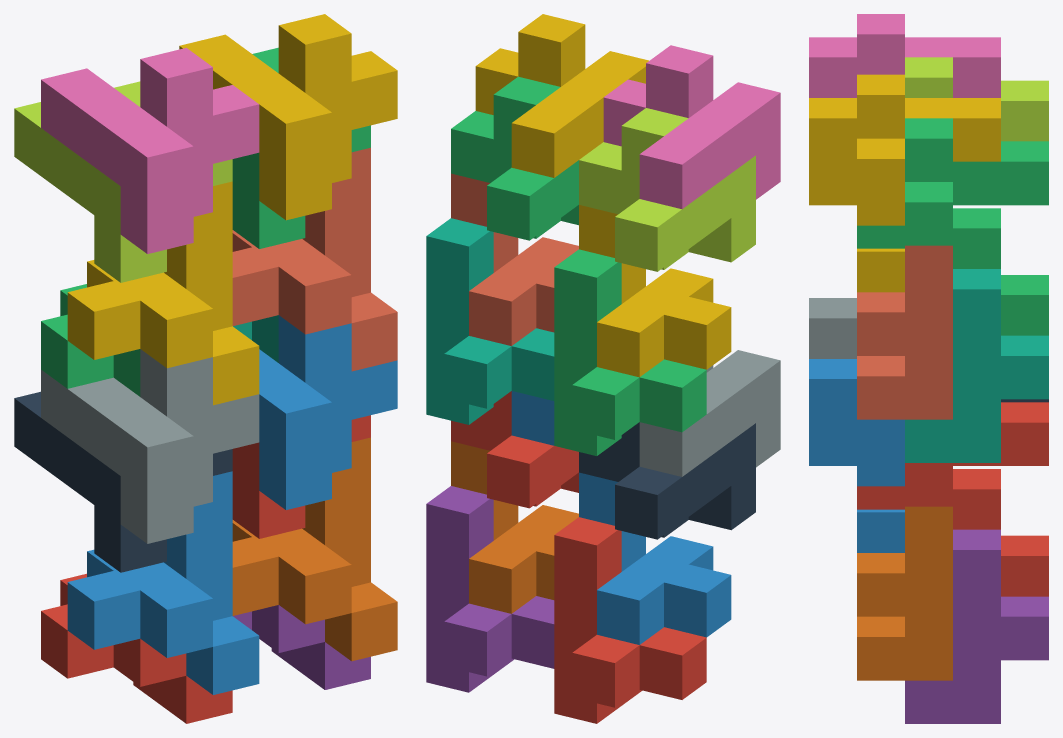
The model's file is tiling.obj.
3 views of the same model, side by side, from view 1: azimuth 30°, elevation 25°; view 2: azimuth 150°, elevation 25°; view 3: azimuth 270°, elevation 25° (orthographic). The views are drawn at different scales.
Parts seen in each view (by area): view 1: copy_2_domain_4, copy_2_domain_2, copy_2_domain_8, copy_1_domain_2, copy_1_domain_4, copy_1_domain_6, copy_1_domain_8, copy_2_domain_6, copy_2_domain_3, copy_2_domain_1, copy_1_domain_1, copy_1_domain_5 (+4 smaller); view 2: copy_2_domain_4, copy_1_domain_1, copy_1_domain_3, copy_1_domain_5, copy_1_domain_7, copy_2_domain_3, copy_2_domain_8, copy_1_domain_2, copy_1_domain_4, copy_2_domain_1, copy_2_domain_7, copy_2_domain_2 (+4 smaller); view 3: copy_2_domain_8, copy_1_domain_5, copy_1_domain_6, copy_1_domain_7, copy_1_domain_8, copy_2_domain_7, copy_2_domain_4, copy_2_domain_6, copy_2_domain_5, copy_1_domain_1, copy_1_domain_3, copy_2_domain_3 (+3 smaller).
Part boxes in pixels (x1,y1,x2,y2): copy_2_domain_4: (41, 48, 259, 253); copy_2_domain_2: (41, 349, 259, 543); copy_2_domain_8: (179, 14, 397, 220); copy_1_domain_2: (67, 471, 259, 694); copy_1_domain_4: (67, 181, 259, 405); copy_1_domain_6: (232, 437, 397, 661); copy_1_domain_8: (232, 147, 397, 371); copy_2_domain_6: (259, 315, 397, 509); copy_2_domain_3: (14, 81, 232, 282); copy_2_domain_1: (14, 391, 232, 572); copy_1_domain_1: (41, 573, 232, 723); copy_1_domain_5: (233, 605, 370, 689); copy_2_domain_4: (603, 45, 780, 208); copy_1_domain_1: (554, 517, 706, 723); copy_1_domain_3: (554, 249, 706, 455); copy_1_domain_5: (426, 486, 554, 692); copy_1_domain_7: (426, 218, 554, 424); copy_2_domain_3: (579, 108, 755, 271); copy_2_domain_8: (475, 14, 648, 177); copy_1_domain_2: (579, 472, 731, 644); copy_1_domain_4: (579, 205, 731, 377); copy_2_domain_1: (579, 422, 755, 539); copy_2_domain_7: (451, 76, 578, 240); copy_2_domain_2: (639, 350, 780, 476); copy_2_domain_8: (809, 74, 1000, 225); copy_1_domain_5: (905, 529, 1048, 723); copy_1_domain_6: (857, 506, 952, 680); copy_1_domain_7: (905, 269, 1048, 462); copy_1_domain_8: (857, 245, 952, 419); copy_2_domain_7: (857, 118, 1048, 248); copy_2_domain_4: (809, 14, 1000, 97); copy_2_domain_6: (809, 359, 904, 486); copy_2_domain_5: (857, 402, 1048, 509); copy_1_domain_1: (953, 469, 1048, 596); copy_1_domain_3: (953, 208, 1048, 335); copy_2_domain_3: (905, 57, 1048, 141).
Bounding box in the file's own units: 6 × 14 × 5.
